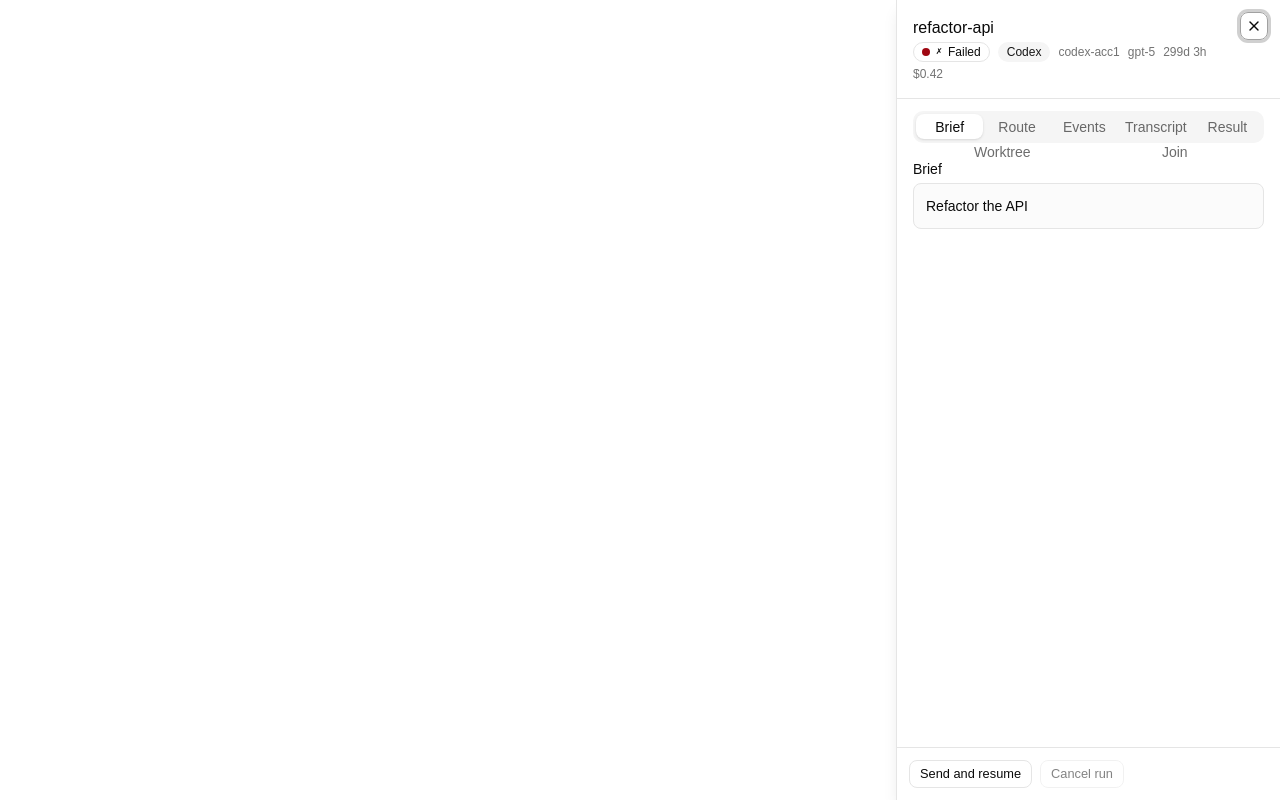
RunPanel › Result tab shows the error alert for a failed run
The image size is (1280, 800).
What coordinates should you click on to do the following:
click the tab "Result"
I would click on:
 (1227, 126)
Its box is [1194,114,1261,139].
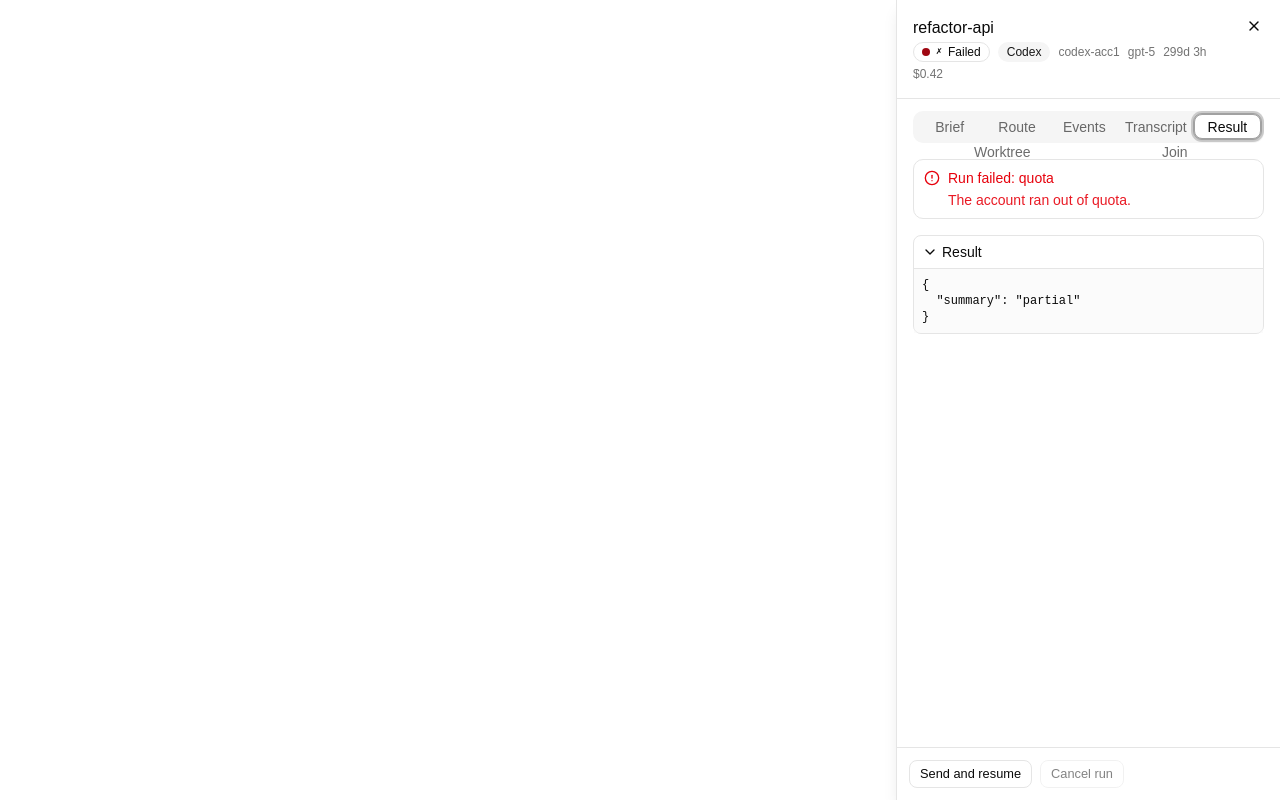
Expected: the message shows "Run failed: quota", [913,159,1264,219]
